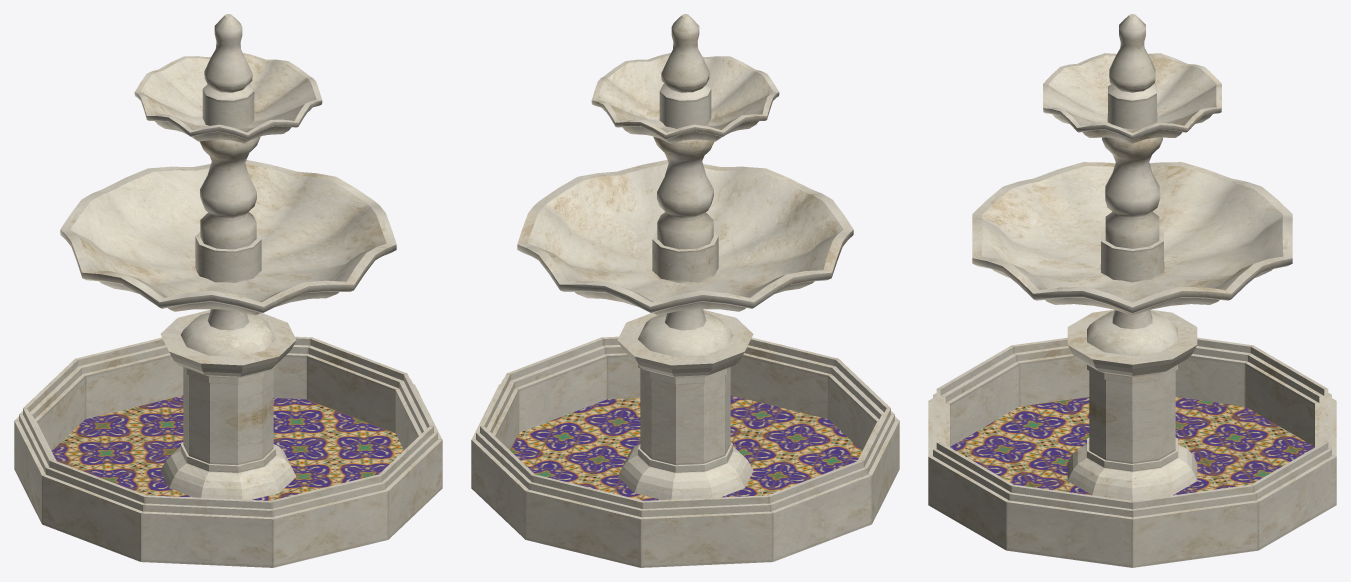
Rendered from patrick-fountain-small.glb.
3 views of the same model, side by side, from view 1: azimuth 30°, elevation 25°; view 2: azimuth 150°, elevation 25°; view 3: azimuth 270°, elevation 25° (orthographic).
Visible parts, largest first — view 1: Model_Fountain_02; view 2: Model_Fountain_02; view 3: Model_Fountain_02.
Boxes of the visible parts, x1,y1,x2,y2 form: Model_Fountain_02: (14,14,442,567); Model_Fountain_02: (471,14,899,567); Model_Fountain_02: (928,14,1336,567).
Size of the model in its own units: 1.2 by 1.42 by 1.14.
Materials: 1 (1 with a texture image).
